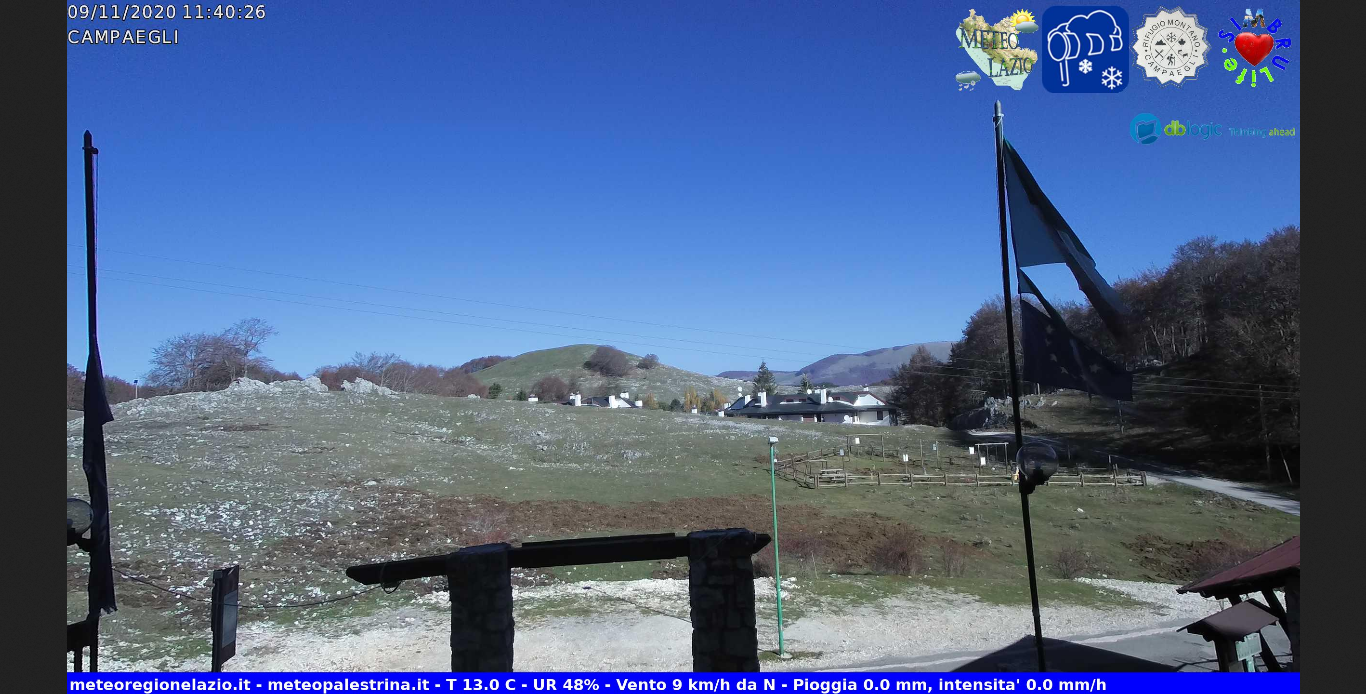maybe: (990, 103, 1169, 361), (1005, 277, 1141, 409)
